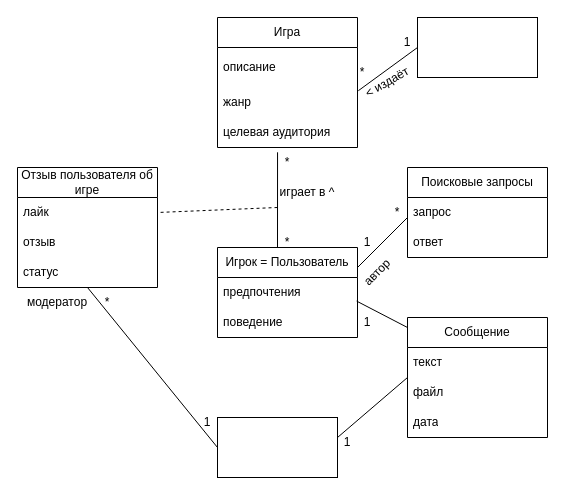
The diagram is 565 pixels wide and 495 high, and some of its shapes have lost their labels. Each missing label, with the centre of its shape:
"Издатель игр = Разработчик" goes at point 477,47.
"Менеджер" goes at point 277,447.
